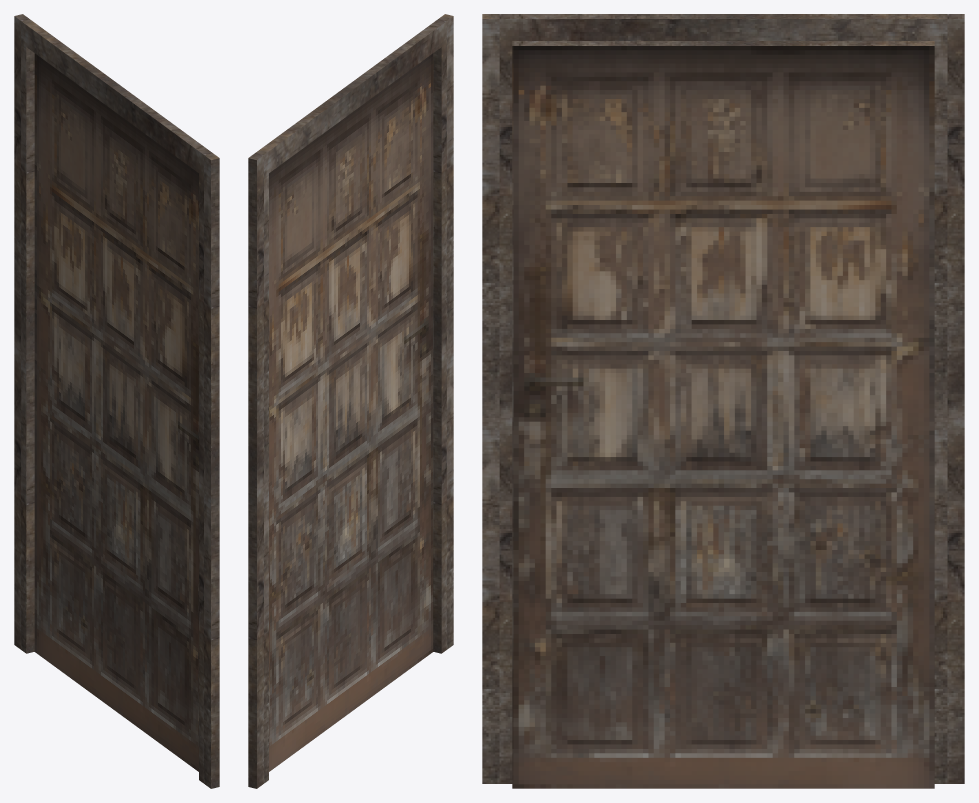
File: _SingleDoor_1.FBX
3 renders of one model, left to right at view 1: azimuth 30°, elevation 25°; view 2: azimuth 150°, elevation 25°; view 3: azimuth 270°, elevation 25°, orthographic. The views are drawn at different scales.
Visible parts, largest first — view 1: SingleDoor_1; view 2: SingleDoor_1; view 3: SingleDoor_1.
Part boxes in pixels (<box>): SingleDoor_1: <box>14,14,219,788</box>; SingleDoor_1: <box>248,14,453,788</box>; SingleDoor_1: <box>482,14,964,788</box>.
Size of the model in its own units: 2.65 by 185 by 105.
Materials: 2 (2 with a texture image).
